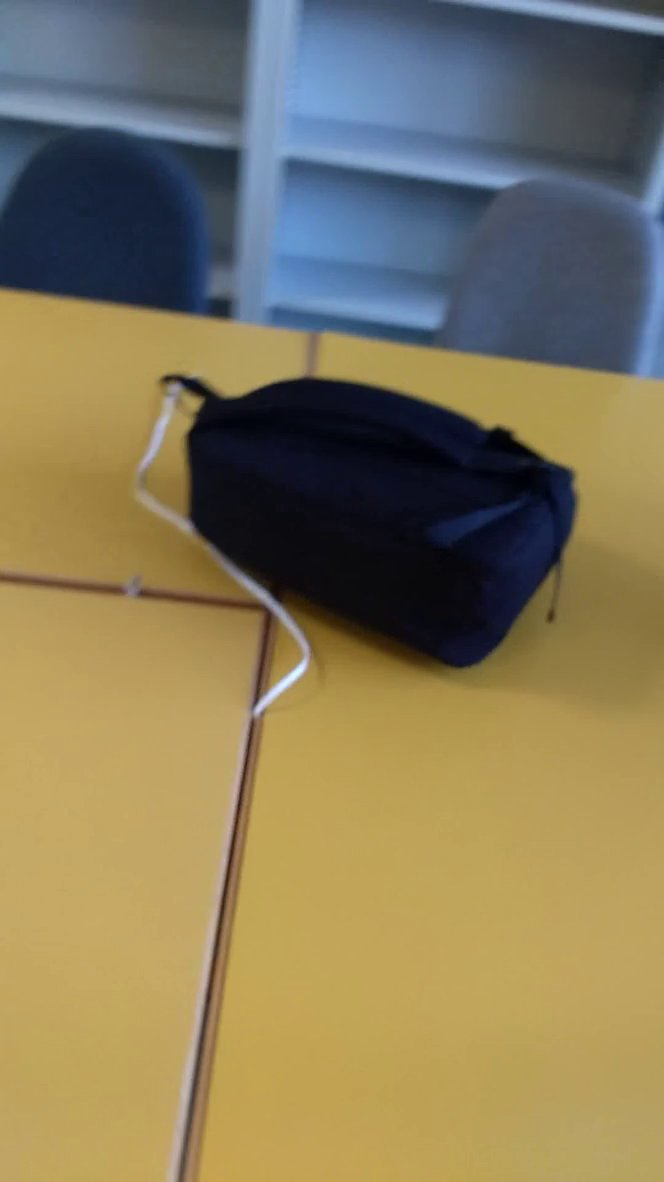bag: (149, 361, 597, 684)
chair: (407, 151, 664, 402), (3, 117, 220, 341)
